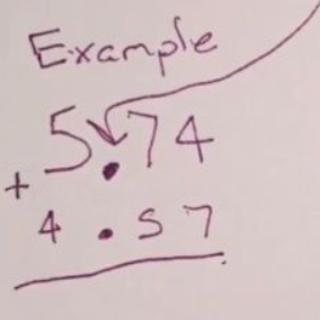.: (97, 158, 121, 183), (97, 223, 114, 241)
4: (173, 111, 217, 165), (36, 207, 66, 246)
5: (43, 102, 91, 178), (136, 207, 166, 240)
7: (125, 106, 160, 169), (182, 203, 217, 243)
